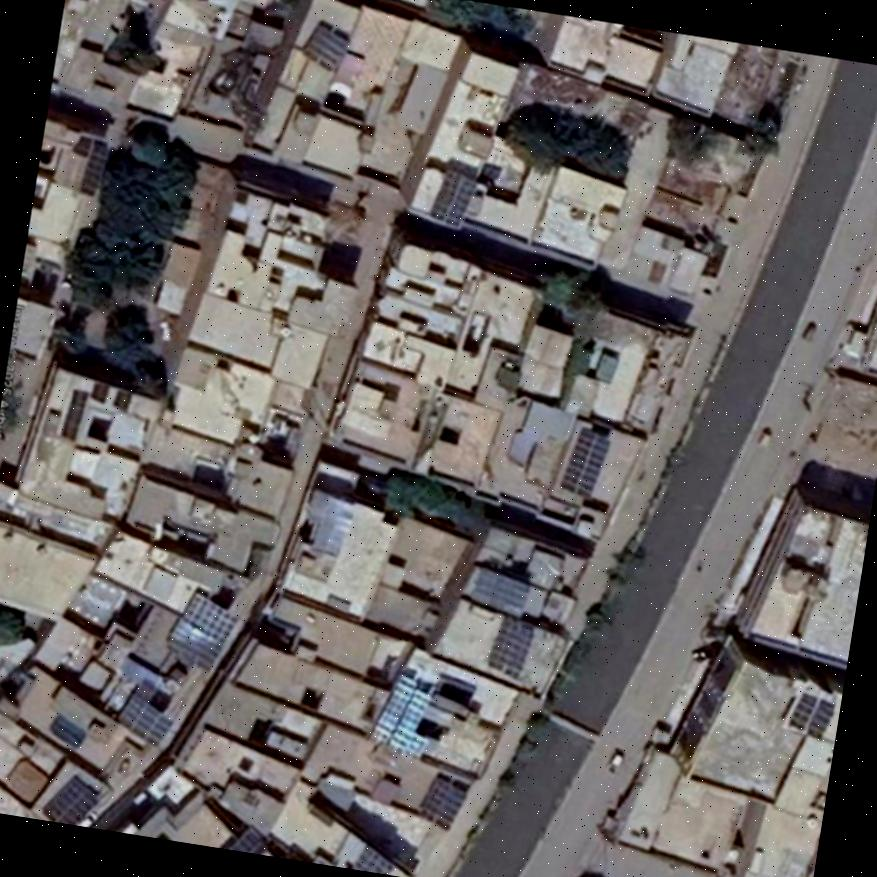Solarpanel: (370, 675, 446, 758), (164, 589, 237, 668), (560, 427, 612, 496), (117, 694, 170, 744), (427, 169, 473, 226), (420, 779, 468, 832), (487, 618, 533, 673), (46, 775, 98, 823), (300, 22, 350, 70), (791, 695, 834, 737), (347, 845, 394, 873)
